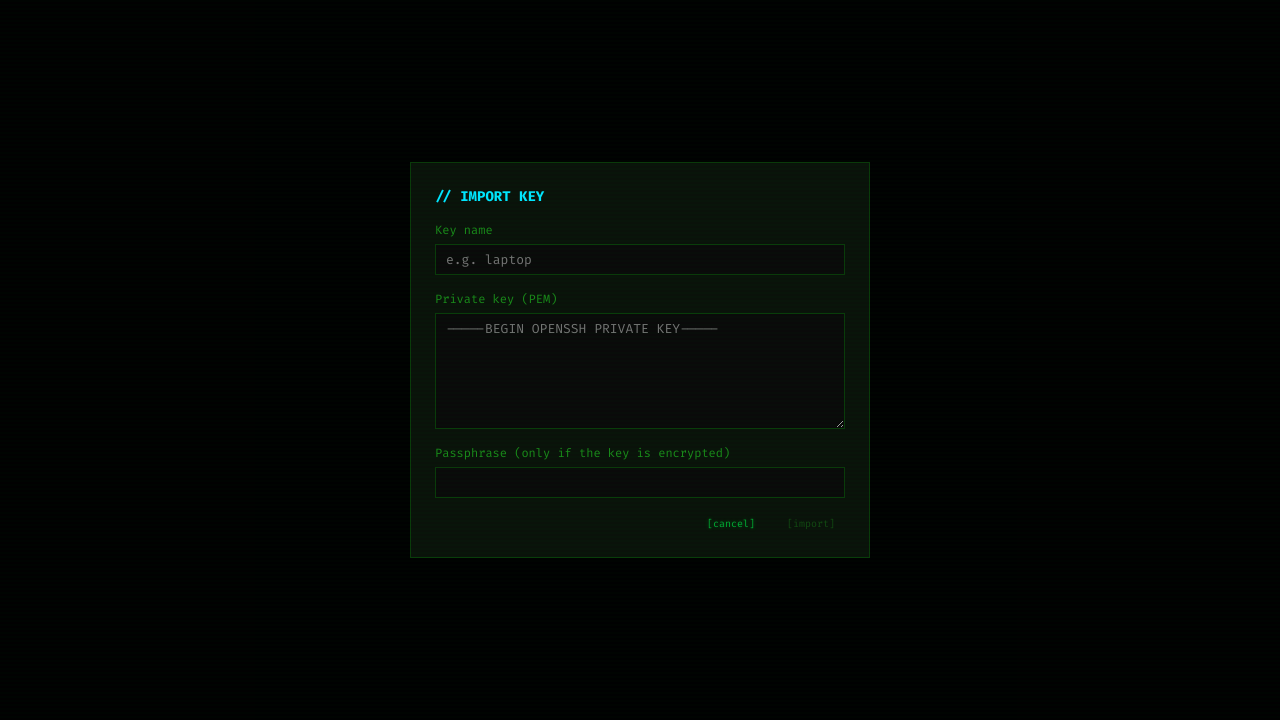
Test case: ImportKeyModal › shows the error and saves nothing when persistence fails
Type "laptop" into the field labelled "Key name".
click(640, 260); type("laptop")  # box x1=435 y1=244 x2=845 y2=275
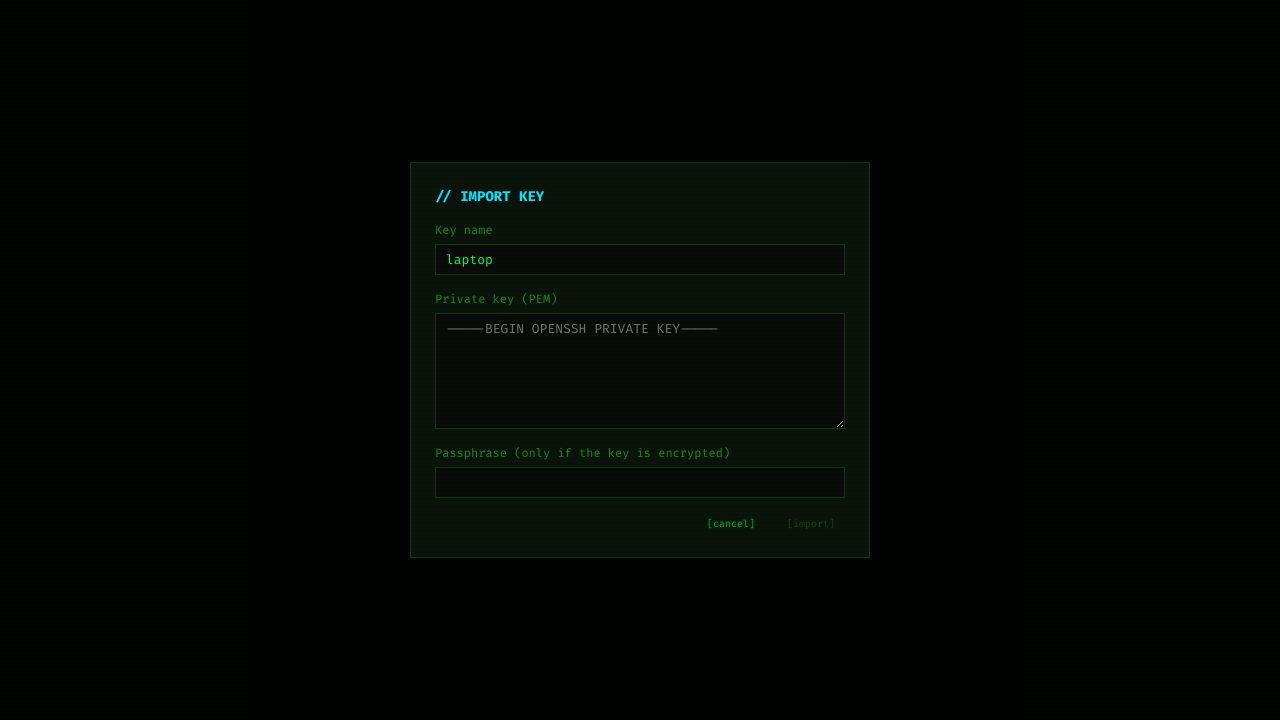
Type "pem" into the text box labelled "Private key (PEM)".
click(640, 371); type("pem")  # box x1=435 y1=313 x2=845 y2=429
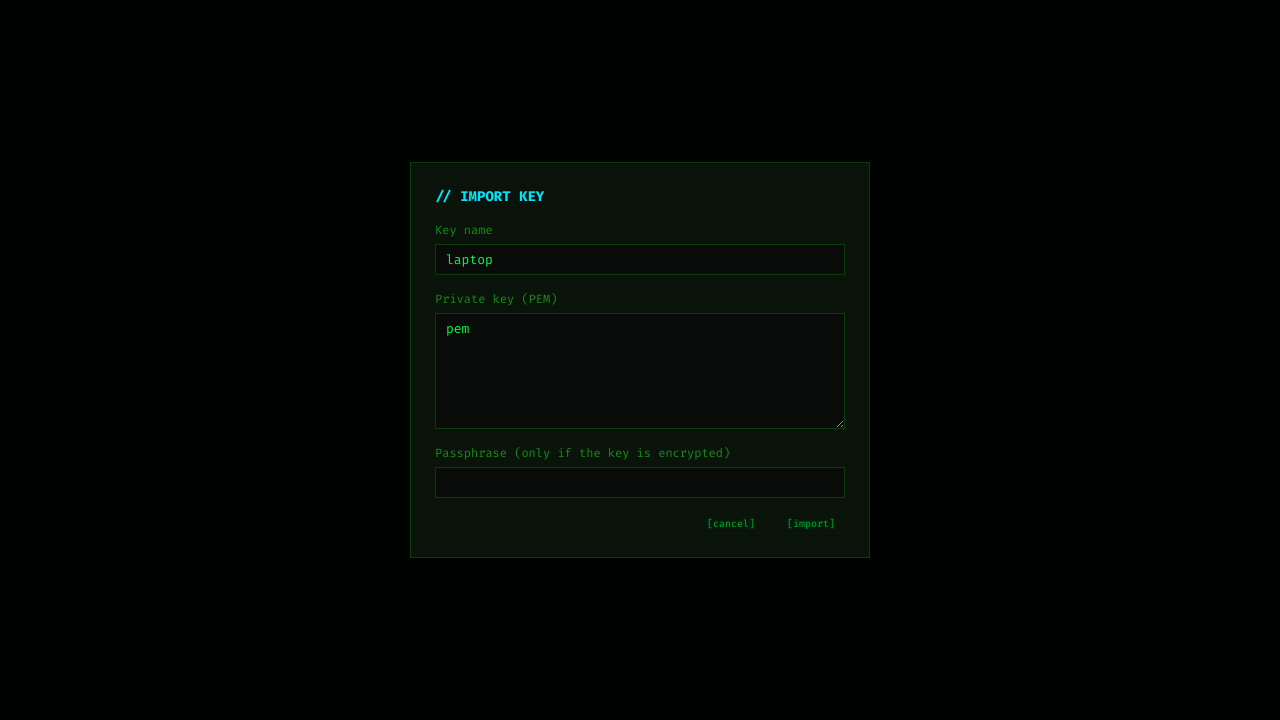
Click the button "[import]".
click(811, 524)  # box x1=777 y1=514 x2=845 y2=533
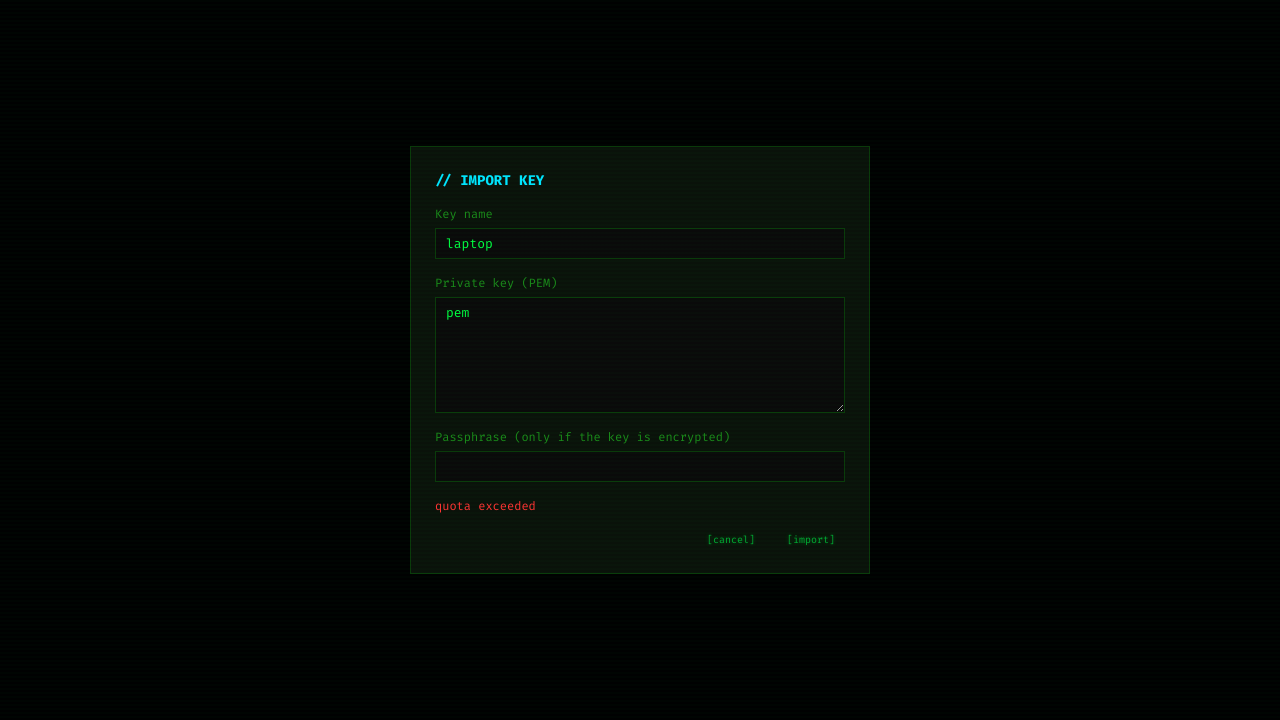
Expected: the text "quota exceeded" is shown, x1=435 y1=498 x2=536 y2=514
